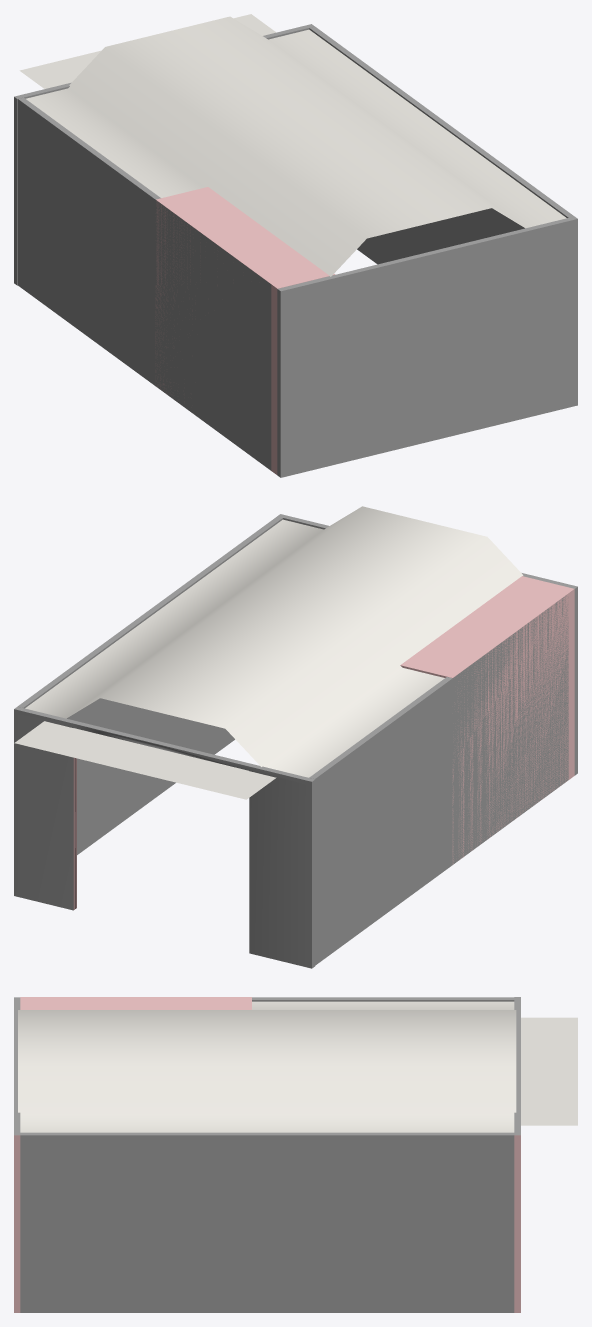
File: ISA_Room.fbx
3 renders of one model, top to bottom at view 1: azimuth 30°, elevation 25°; view 2: azimuth 150°, elevation 25°; view 3: azimuth 270°, elevation 25°, orthographic. The views are drawn at different scales.
Visible parts, largest first — view 1: Roof, Left_wall2, Right_wall, pCube1, Left_wall, SmallOutsideRoof, Left_wall1; view 2: Roof, Right_wall, Left_wall1, pCube1, Left_wall, SmallOutsideRoof, Left_wall2; view 3: Left_wall, Roof, SmallOutsideRoof, pCube1, Left_wall1, Left_wall2, Right_wall.
Part boxes in pixels (box(x1,y1,x2,y2)): Roof: box(26, 16, 566, 276); Left_wall2: box(277, 216, 577, 477); Right_wall: box(18, 97, 271, 470); pCube1: box(155, 187, 335, 474); Left_wall: box(309, 26, 574, 264); SmallOutsideRoof: box(19, 14, 276, 88); Left_wall1: box(14, 24, 314, 285); Roof: box(25, 506, 523, 777); Right_wall: box(309, 595, 568, 965); Left_wall1: box(14, 706, 315, 968); pCube1: box(400, 576, 574, 864); Left_wall: box(18, 515, 283, 854); SmallOutsideRoof: box(14, 721, 276, 799); Left_wall2: box(278, 514, 577, 775); Left_wall: box(16, 1132, 514, 1312); Roof: box(18, 1001, 516, 1132); SmallOutsideRoof: box(521, 1017, 577, 1125); pCube1: box(20, 997, 251, 1009); Left_wall1: box(514, 997, 520, 1312); Left_wall2: box(14, 997, 20, 1312); Right_wall: box(252, 997, 514, 1001).
Size of the model in its own units: 5.14 by 3.57 by 8.85.
